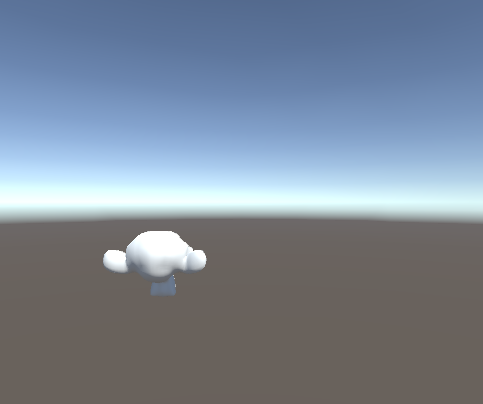monkey: (101, 228, 208, 298)
